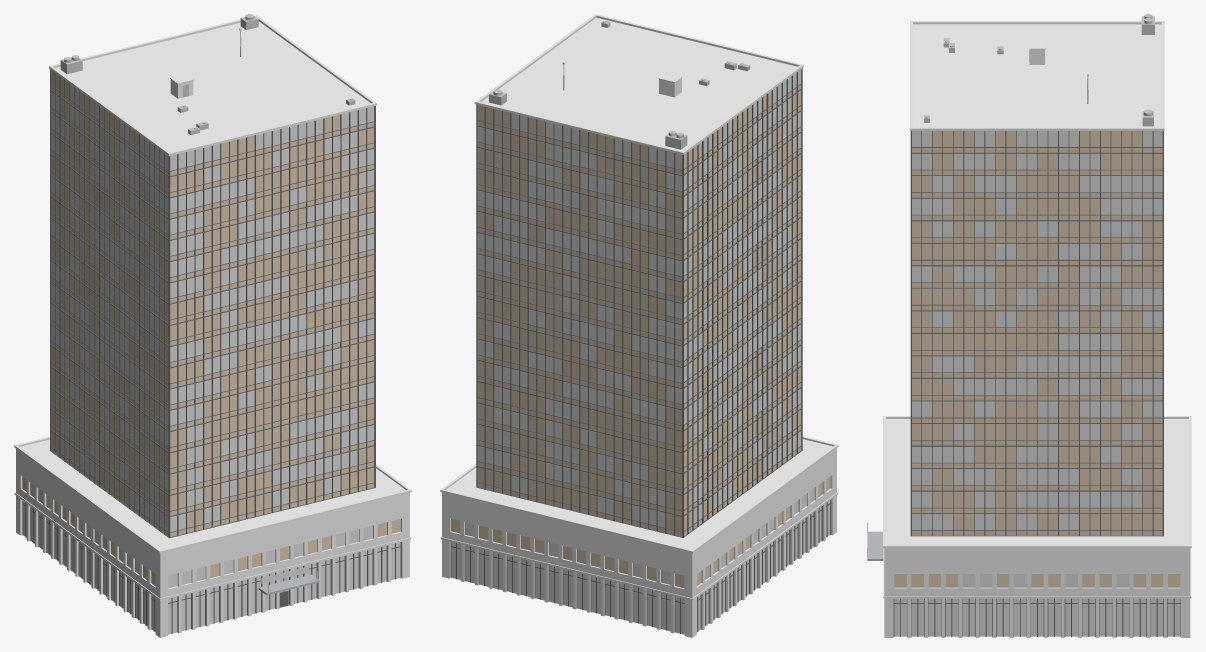
File: tower_p290b.glb
3 renders of one model, left to right at view 1: azimuth 30°, elevation 25°; view 2: azimuth 150°, elevation 25°; view 3: azimuth 270°, elevation 25°, orthographic. The views are drawn at different scales.
Visible parts, largest first — view 1: tower_p290b_Glass, tower_p290b_Frames, tower_p290b_WindowsLit, tower_p290b_Roof, tower_p290b_Walls2, tower_p290b_Trim, tower_p290b_Details, tower_p290b_Accent; view 2: tower_p290b_Glass, tower_p290b_Frames, tower_p290b_WindowsLit, tower_p290b_Roof, tower_p290b_Walls2, tower_p290b_Trim, tower_p290b_Details; view 3: tower_p290b_Glass, tower_p290b_WindowsLit, tower_p290b_Roof, tower_p290b_Frames, tower_p290b_Walls2, tower_p290b_Trim, tower_p290b_Details, tower_p290b_Accent.
Boxes of the visible parts, x1,y1,x2,y2 form: tower_p290b_Glass: (22, 71, 400, 585); tower_p290b_Frames: (22, 69, 401, 633); tower_p290b_WindowsLit: (23, 85, 400, 634); tower_p290b_Roof: (20, 21, 405, 549); tower_p290b_Walls2: (16, 79, 409, 637); tower_p290b_Trim: (14, 15, 411, 600); tower_p290b_Details: (60, 14, 355, 592); tower_p290b_Accent: (258, 574, 319, 595); tower_p290b_Glass: (451, 85, 830, 587); tower_p290b_Frames: (450, 68, 830, 633); tower_p290b_WindowsLit: (451, 69, 829, 634); tower_p290b_Roof: (446, 17, 832, 549); tower_p290b_Walls2: (442, 78, 836, 637); tower_p290b_Trim: (440, 14, 838, 600); tower_p290b_Details: (488, 20, 750, 149); tower_p290b_Glass: (894, 131, 1180, 587); tower_p290b_WindowsLit: (894, 131, 1180, 636); tower_p290b_Roof: (886, 24, 1188, 544); tower_p290b_Frames: (893, 131, 1180, 636); tower_p290b_Walls2: (884, 49, 1190, 637); tower_p290b_Trim: (883, 21, 1191, 598); tower_p290b_Details: (867, 14, 1154, 557); tower_p290b_Accent: (867, 531, 883, 560).
Bounding box in the file's own units: 161 × 303 × 170.
